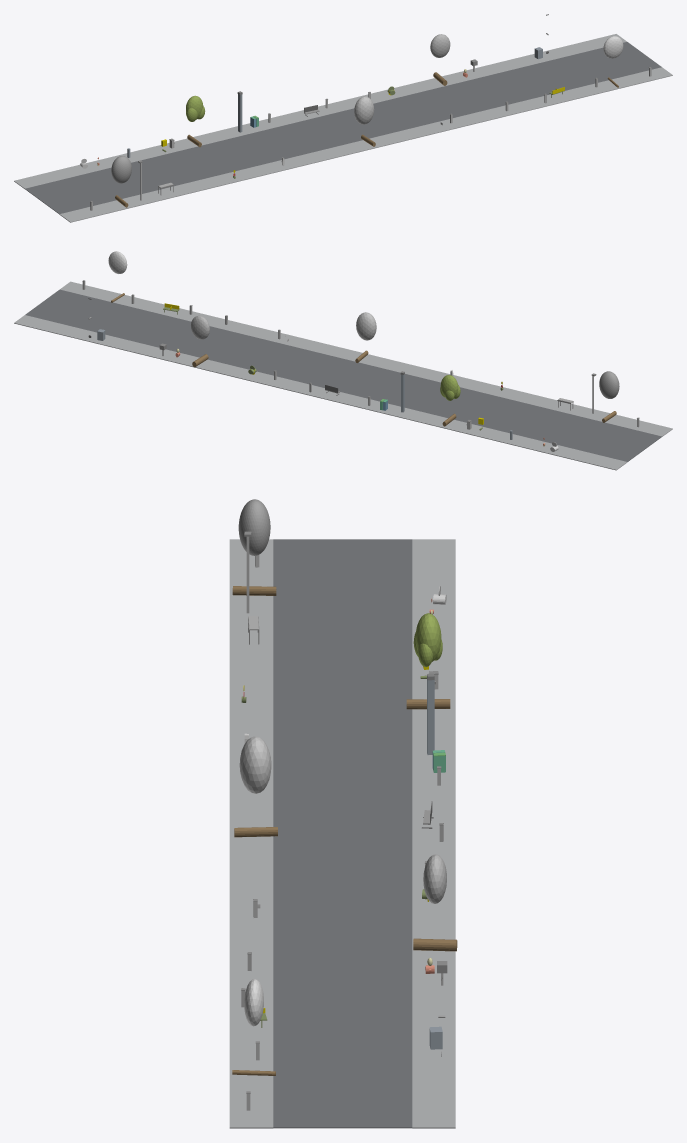
3 views of the same model, one above another, from view 1: azimuth 30°, elevation 25°; view 2: azimuth 150°, elevation 25°; view 3: azimuth 270°, elevation 25° (orthographic). The views are drawn at different scales.
Visible parts, largest first — view 1: road_slab, sidewalk_left, sidewalk_right, inst_0014, inst_0012, inst_0015, inst_0013, inst_0016; view 2: road_slab, sidewalk_right, sidewalk_left, inst_0014, inst_0012, inst_0013, inst_0015, inst_0016; view 3: road_slab, sidewalk_left, sidewalk_right, inst_0014, inst_0012, inst_0013, inst_0015, inst_0016.
Part boxes in pixels (box(x1,y1,x2,y2)): road_slab: box(25, 42, 661, 214); sidewalk_left: box(59, 67, 672, 222); sidewalk_right: box(14, 34, 626, 188); inst_0014: box(354, 96, 375, 146); inst_0012: box(111, 156, 131, 207); inst_0015: box(430, 34, 450, 85); inst_0013: box(186, 95, 205, 147); inst_0016: box(603, 36, 623, 87); road_slab: box(25, 289, 661, 461); sidewalk_right: box(14, 315, 627, 470); sidewalk_left: box(60, 281, 672, 436); inst_0014: box(355, 312, 376, 362); inst_0012: box(599, 371, 619, 422); inst_0013: box(440, 375, 460, 426); inst_0015: box(191, 315, 209, 367); inst_0016: box(108, 251, 127, 302); road_slab: box(273, 539, 412, 1128); sidewalk_left: box(229, 539, 273, 1128); sidewalk_right: box(412, 539, 455, 1128); inst_0014: box(234, 736, 277, 837); inst_0012: box(232, 499, 276, 595); inst_0013: box(406, 613, 450, 709); inst_0015: box(413, 854, 457, 951); inst_0016: box(232, 979, 275, 1075).
Size of the model in its own units: 80 by 6.08 by 13.08.
